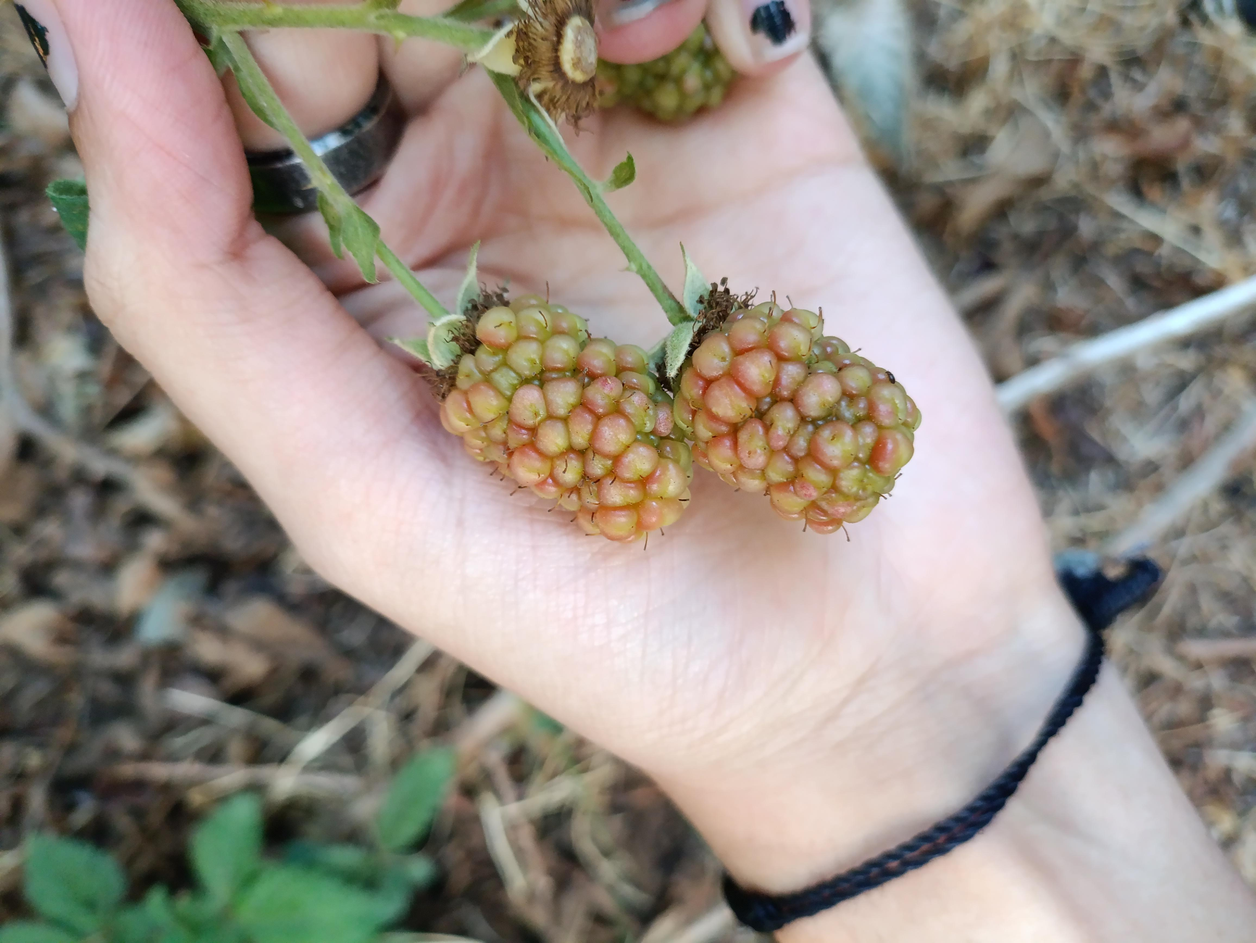verde: (441, 302, 691, 540), (674, 301, 920, 533)
